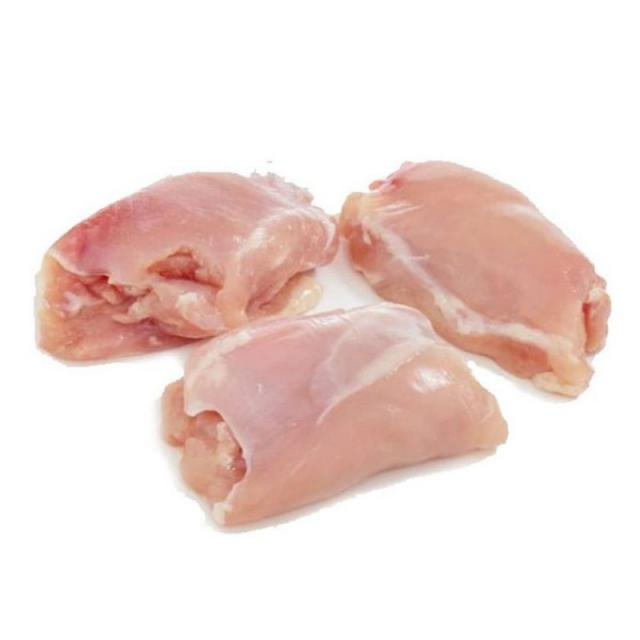chicken: (158, 311, 507, 530), (342, 159, 610, 396), (34, 173, 339, 359)
